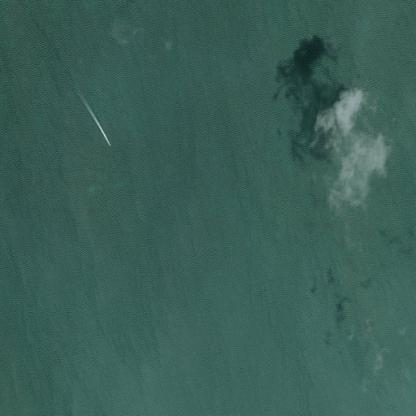ship: (108, 127, 111, 130)
